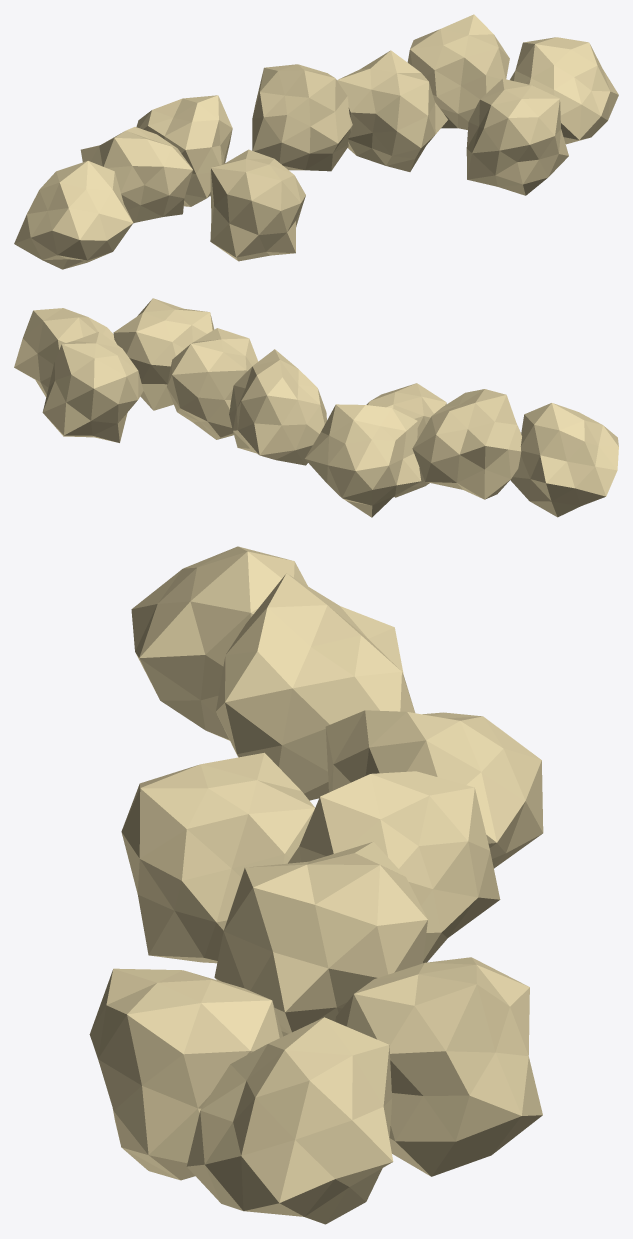
The model's file is hotDog-additivePopcorn.fbx.
The picture shows the model from 3 angles, top to bottom: view 1: azimuth 30°, elevation 25°; view 2: azimuth 150°, elevation 25°; view 3: azimuth 270°, elevation 25°; orthographic projection. The views are drawn at different scales.
Parts seen in each view (by area): view 1: popped-corn; view 2: popped-corn; view 3: popped-corn.
Boxes of the visible parts, x1,y1,x2,y2 form: popped-corn: (14,14,618,269); popped-corn: (14,298,618,517); popped-corn: (89,546,543,1224).
Size of the model in its own units: 37.71 by 8.46 by 12.6.
